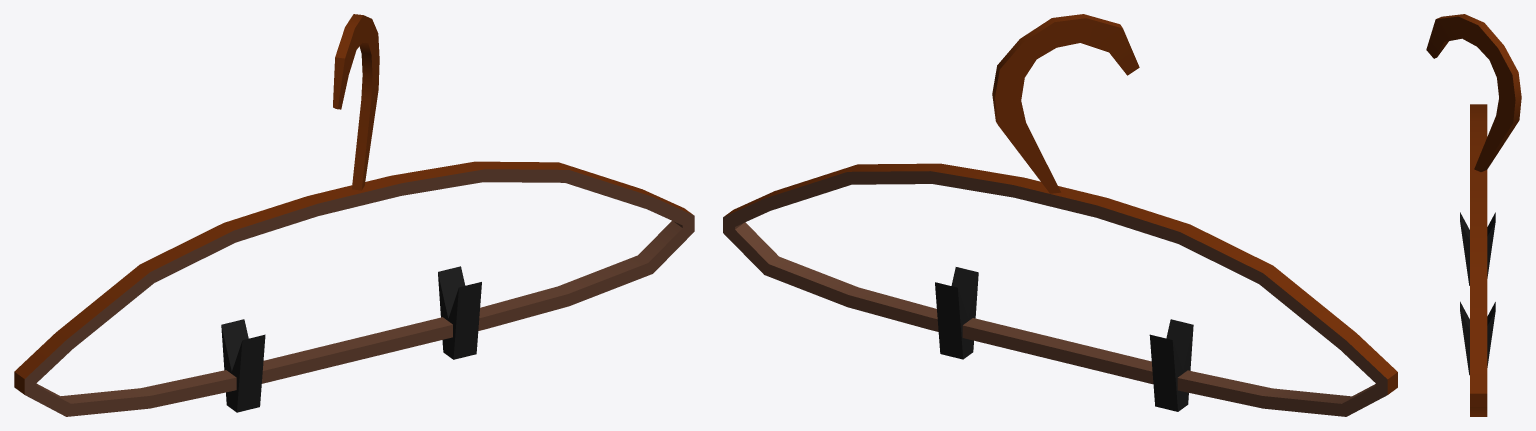
Rendered from shelf_clickable.glb.
3 renders of one model, left to right at view 1: azimuth 30°, elevation 25°; view 2: azimuth 150°, elevation 25°; view 3: azimuth 270°, elevation 25°, orthographic. The views are drawn at different scales.
Visible parts, largest first — view 1: shelf.001; view 2: shelf.001; view 3: shelf.001.
Part boxes in pixels (left/top/right/bottom): shelf.001: left=14, top=14, right=694, bottom=416; shelf.001: left=723, top=14, right=1397, bottom=416; shelf.001: left=1426, top=14, right=1521, bottom=416.
Size of what is drawn, in the model's own units: 0.8019 by 0.4139 by 0.117.
1 material, 1 textured.
